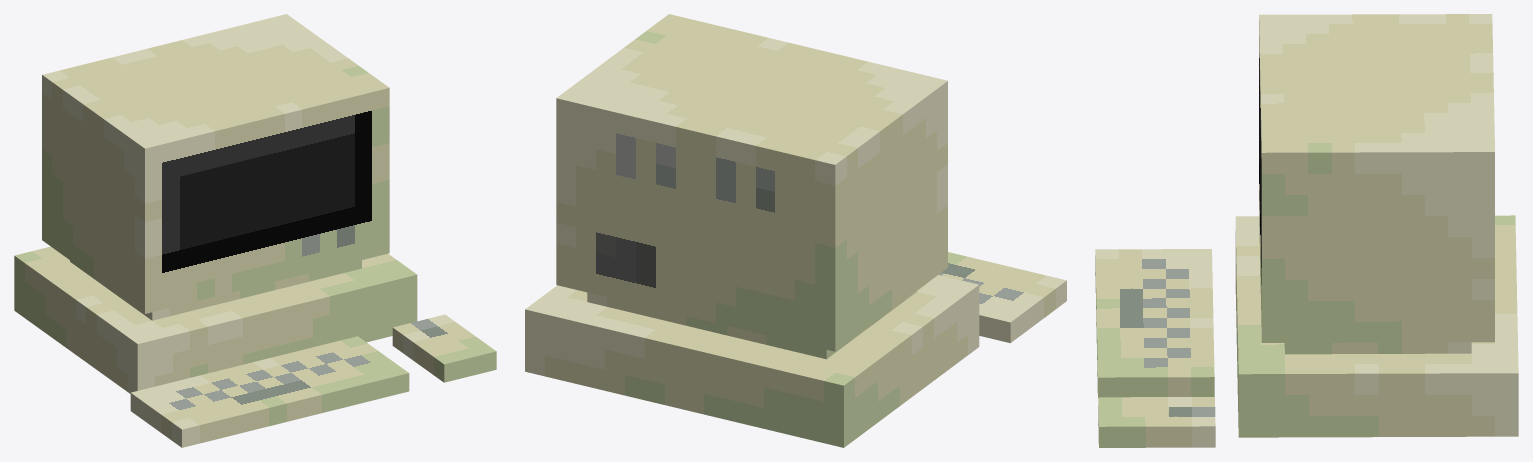
Rendered from retro_computer (1).glb.
3 views of the same model, side by side, from view 1: azimuth 30°, elevation 25°; view 2: azimuth 150°, elevation 25°; view 3: azimuth 270°, elevation 25° (orthographic). The views are drawn at different scales.
Parts seen in each view (by area): view 1: c70d7a23-0772-5c3c-1f9c-0ac345c32a46_0, e5338946-5b2f-e98a-5eab-3a69045ed9c0_1, 08ba3ee8-6815-2461-0116-323987b1419d_4, e288ded3-8ce8-2b74-b5dc-e6f391393477_3, db05b3a0-64c0-9162-d20e-880323bddd39_2; view 2: c70d7a23-0772-5c3c-1f9c-0ac345c32a46_0, e5338946-5b2f-e98a-5eab-3a69045ed9c0_1, 08ba3ee8-6815-2461-0116-323987b1419d_4, db05b3a0-64c0-9162-d20e-880323bddd39_2; view 3: c70d7a23-0772-5c3c-1f9c-0ac345c32a46_0, e5338946-5b2f-e98a-5eab-3a69045ed9c0_1, 08ba3ee8-6815-2461-0116-323987b1419d_4, e288ded3-8ce8-2b74-b5dc-e6f391393477_3, db05b3a0-64c0-9162-d20e-880323bddd39_2.
Boxes of the visible parts, x1=… form: c70d7a23-0772-5c3c-1f9c-0ac345c32a46_0: x1=42, y1=14, x2=389, y2=313; e5338946-5b2f-e98a-5eab-3a69045ed9c0_1: x1=14, y1=246, x2=417, y2=393; 08ba3ee8-6815-2461-0116-323987b1419d_4: x1=130, y1=336, x2=409, y2=447; e288ded3-8ce8-2b74-b5dc-e6f391393477_3: x1=392, y1=314, x2=496, y2=382; db05b3a0-64c0-9162-d20e-880323bddd39_2: x1=70, y1=260, x2=361, y2=320; c70d7a23-0772-5c3c-1f9c-0ac345c32a46_0: x1=556, y1=14, x2=947, y2=351; e5338946-5b2f-e98a-5eab-3a69045ed9c0_1: x1=525, y1=275, x2=979, y2=447; 08ba3ee8-6815-2461-0116-323987b1419d_4: x1=938, y1=252, x2=1066, y2=343; db05b3a0-64c0-9162-d20e-880323bddd39_2: x1=587, y1=291, x2=916, y2=359; c70d7a23-0772-5c3c-1f9c-0ac345c32a46_0: x1=1259, y1=14, x2=1494, y2=342; e5338946-5b2f-e98a-5eab-3a69045ed9c0_1: x1=1235, y1=215, x2=1518, y2=437; 08ba3ee8-6815-2461-0116-323987b1419d_4: x1=1095, y1=249, x2=1214, y2=398; e288ded3-8ce8-2b74-b5dc-e6f391393477_3: x1=1098, y1=397, x2=1215, y2=447; db05b3a0-64c0-9162-d20e-880323bddd39_2: x1=1284, y1=342, x2=1471, y2=354.
Bounding box in the file's own units: 1.13 × 0.8125 × 1.13.
Materials: 10 (10 with a texture image).
